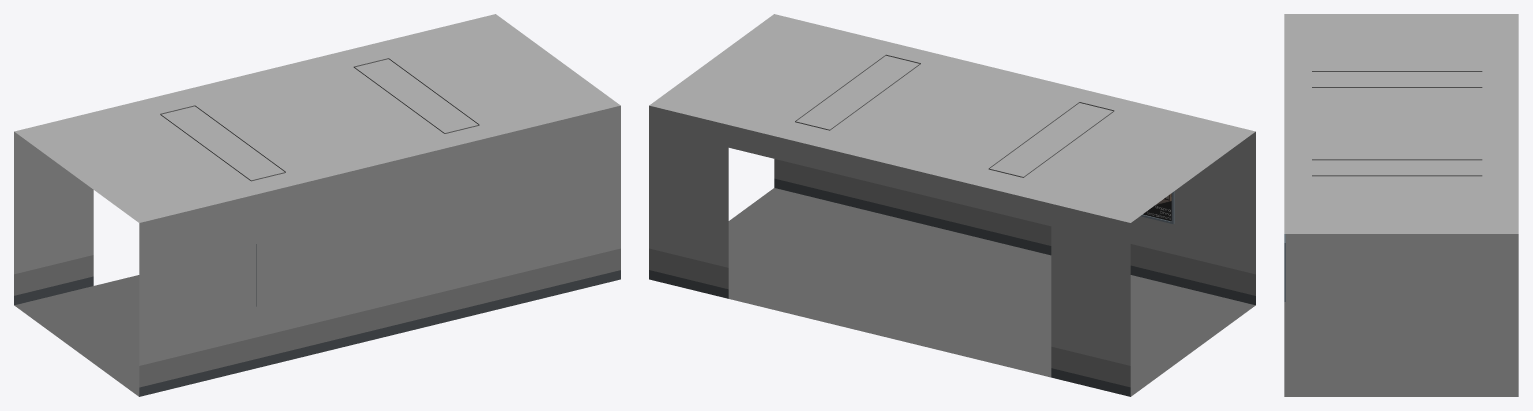
Rendered from SM_Floor_Metro_04.fbx.
3 views of the same model, side by side, from view 1: azimuth 30°, elevation 25°; view 2: azimuth 150°, elevation 25°; view 3: azimuth 270°, elevation 25° (orthographic). The views are drawn at different scales.
Visible parts, largest first — view 1: SM_Floor_Metro_04; view 2: SM_Floor_Metro_04; view 3: SM_Floor_Metro_04.
Boxes of the visible parts, bbox=[...] form: SM_Floor_Metro_04: bbox=[14, 14, 620, 396]; SM_Floor_Metro_04: bbox=[649, 14, 1255, 396]; SM_Floor_Metro_04: bbox=[1284, 14, 1518, 396].
Bounding box in the file's own units: 10 × 3.47 × 4.5.
